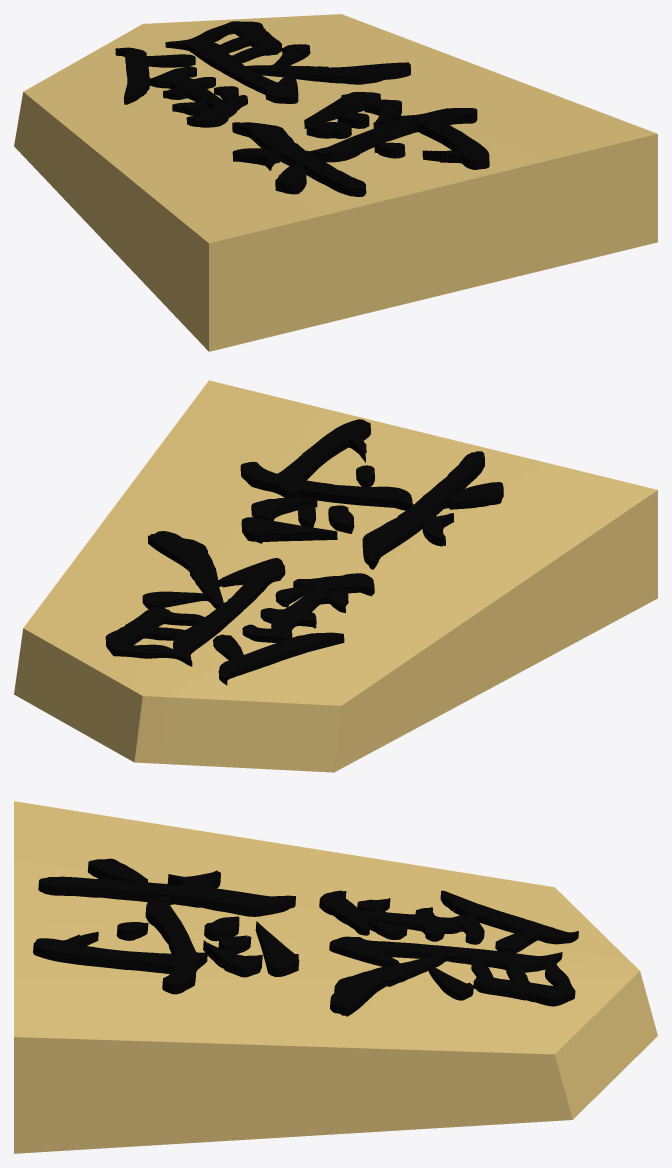
File: GeneralDargent.fbx
3 views of the same model, one above another, from view 1: azimuth 30°, elevation 25°; view 2: azimuth 150°, elevation 25°; view 3: azimuth 270°, elevation 25° (orthographic). The views are drawn at different scales.
Visible parts, largest first — view 1: GeneralDargent; view 2: GeneralDargent; view 3: GeneralDargent.
Boxes of the visible parts, box(x1,y1,x2,y2) form: GeneralDargent: box(14, 14, 657, 351); GeneralDargent: box(14, 380, 657, 772); GeneralDargent: box(14, 801, 657, 1153).
Size of the model in its own units: 63.4 by 15.61 by 73.15.
